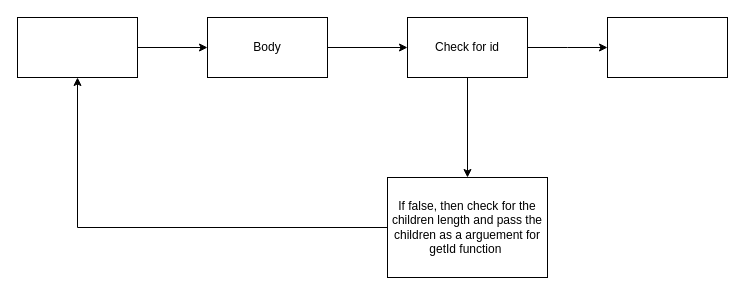
The diagram is 745 pixels wide and 295 high, and some of its shapes have lost their labels. Each missing label, with the box of its shape:
Create getId function and pass body and id as the arguement: (16, 16, 138, 78)
If true then return: (606, 16, 728, 78)
